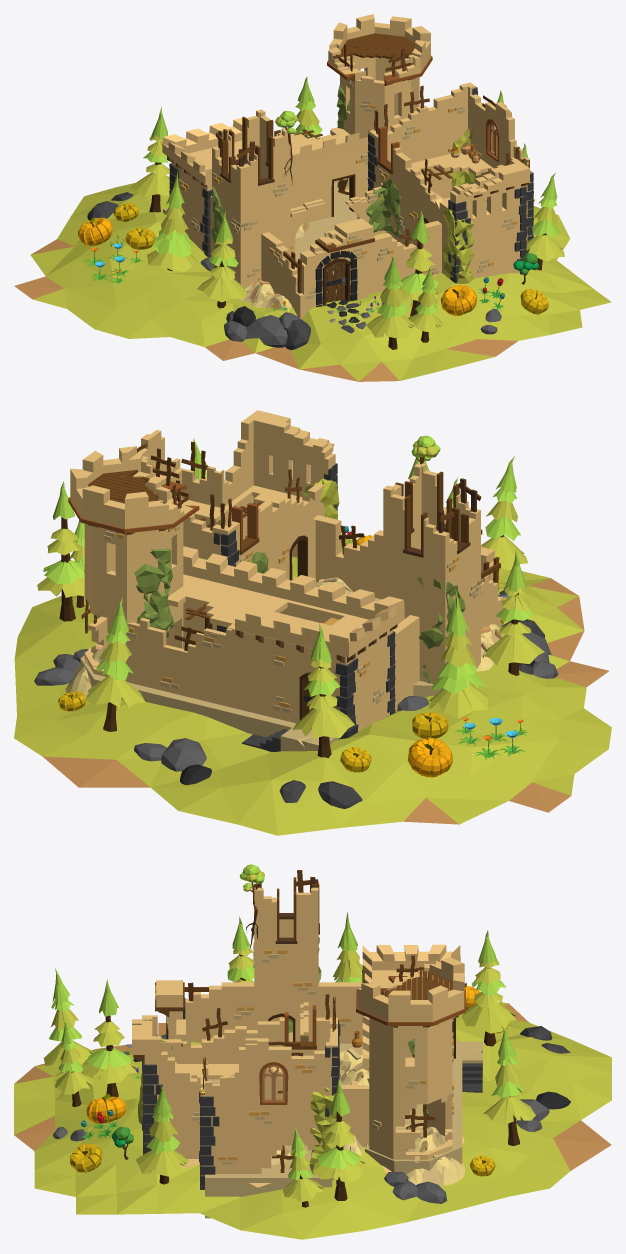
Rendered from CutoutCastleRuins.fbx.
3 renders of one model, top to bottom at view 1: azimuth 30°, elevation 25°; view 2: azimuth 150°, elevation 25°; view 3: azimuth 270°, elevation 25°, orthographic. The views are drawn at different scales.
Visible parts, largest first — view 1: Plano, structure_2, structure_3, Tower, structure_1, walls, battlement_1, wall_3, forest.002_5, bricks, forest.002_1, forest.002_3 (+24 smaller); view 2: Plano, structure_1, structure_2, Tower, structure_3, battlement_1, walls, base, forest.002_5, forest.002_10, forest.002_9, forest.002_3 (+18 smaller); view 3: Plano, structure_2, Tower, structure_3, walls, base, forest.002_10, forest.002_7, forest.002_2, forest.002_9, battlement_1, forest.002_6 (+19 smaller).
Part boxes in pixels (left/top/right/bottom): Plano: left=14, top=176, right=611, bottom=381; structure_2: left=369, top=82, right=531, bottom=278; structure_3: left=212, top=109, right=290, bottom=287; Tower: left=327, top=14, right=432, bottom=196; structure_1: left=171, top=127, right=368, bottom=252; walls: left=209, top=196, right=441, bottom=319; battlement_1: left=162, top=117, right=374, bottom=185; wall_3: left=297, top=218, right=373, bottom=310; forest.002_5: left=147, top=170, right=198, bottom=271; bricks: left=179, top=77, right=517, bottom=299; forest.002_1: left=366, top=256, right=414, bottom=349; forest.002_3: left=197, top=211, right=247, bottom=308; Plano: left=14, top=539, right=611, bottom=835; structure_1: left=125, top=574, right=392, bottom=731; structure_2: left=137, top=410, right=335, bottom=630; Tower: left=68, top=446, right=199, bottom=676; structure_3: left=383, top=462, right=480, bottom=690; battlement_1: left=183, top=546, right=404, bottom=657; walls: left=313, top=515, right=503, bottom=711; base: left=80, top=598, right=440, bottom=751; forest.002_5: left=428, top=588, right=488, bottom=718; forest.002_10: left=292, top=623, right=354, bottom=758; forest.002_9: left=86, top=597, right=145, bottom=731; forest.002_3: left=484, top=550, right=544, bottom=675; Plano: left=14, top=1002, right=611, bottom=1239; structure_2: left=132, top=1015, right=337, bottom=1175; Tower: left=356, top=957, right=465, bottom=1159; structure_3: left=254, top=887, right=318, bottom=1041; walls: left=176, top=982, right=369, bottom=1147; base: left=205, top=1032, right=482, bottom=1218; forest.002_10: left=462, top=930, right=516, bottom=1046; forest.002_7: left=312, top=1079, right=367, bottom=1200; forest.002_2: left=82, top=979, right=138, bottom=1097; forest.002_9: left=483, top=1026, right=535, bottom=1145; battlement_1: left=362, top=944, right=460, bottom=1071; forest.002_6: left=136, top=1086, right=188, bottom=1184.
Bounding box in the file's own units: 2470 × 1022 × 2388.
